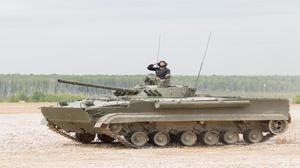bmp: (39, 80, 296, 144)
